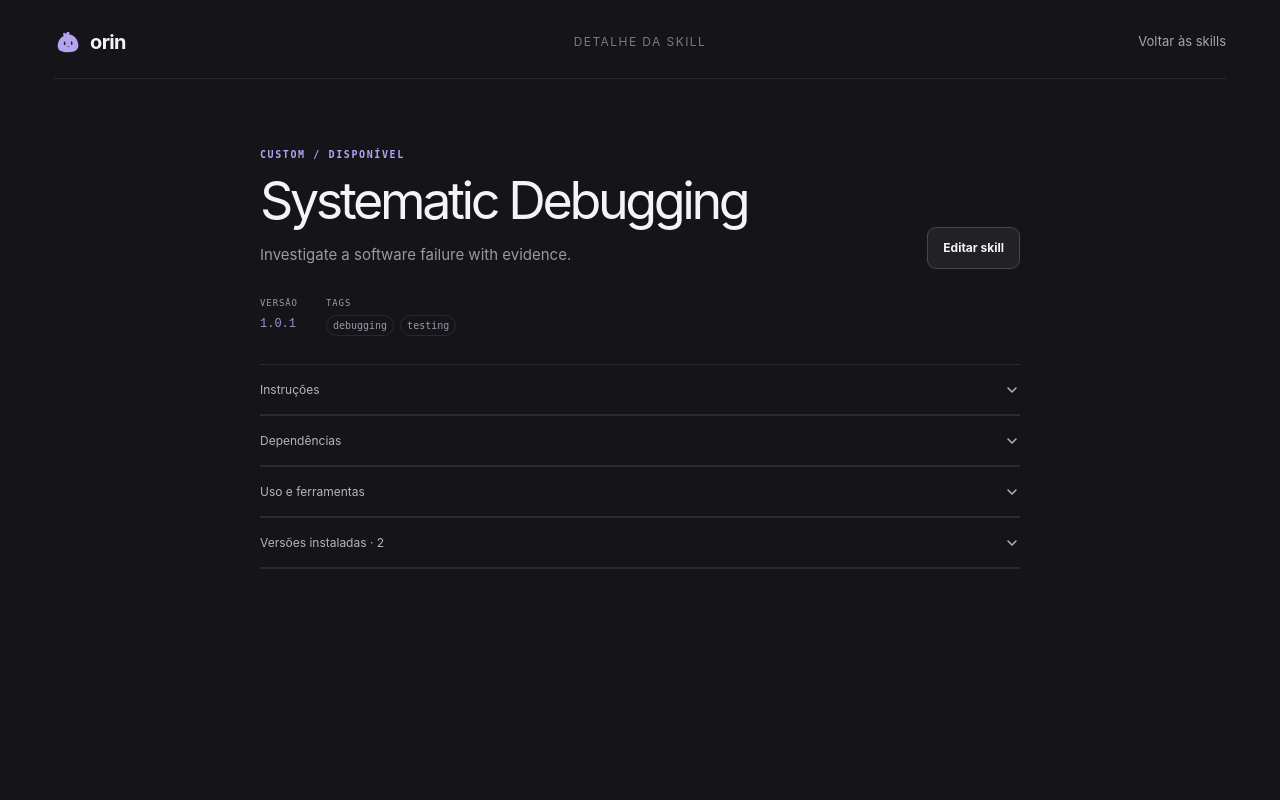
Scenario: SkillsPage › uninstalls an old version without hiding the active version
Click the button "Versões instaladas · 2" at (322, 542), box [260,518,1020,568]
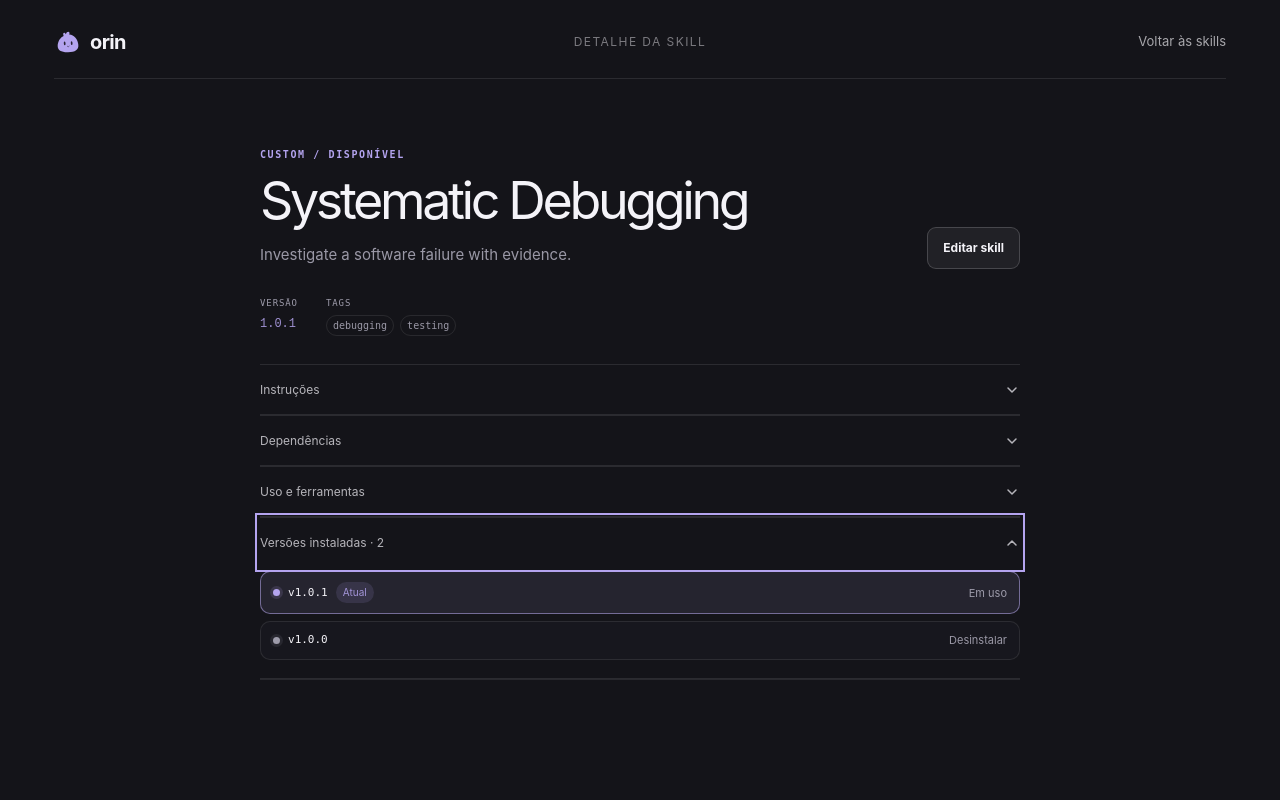
Click the button with aria-label "Desinstalar versão 1.0.0" at (978, 641), box [949,632,1007,649]
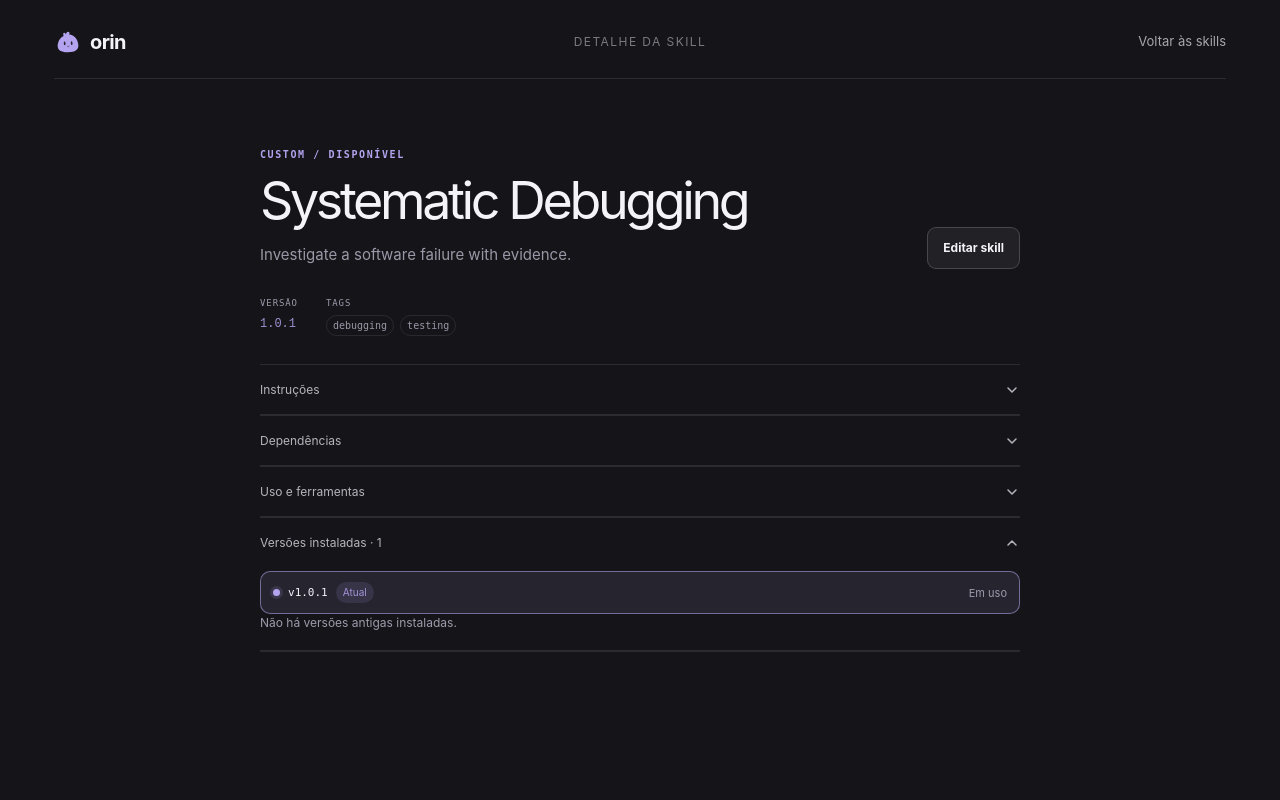
expect the text "v1.0.1" is shown: met, box [288,585,328,601]
expect the text "v1.0.0" is gone: met
